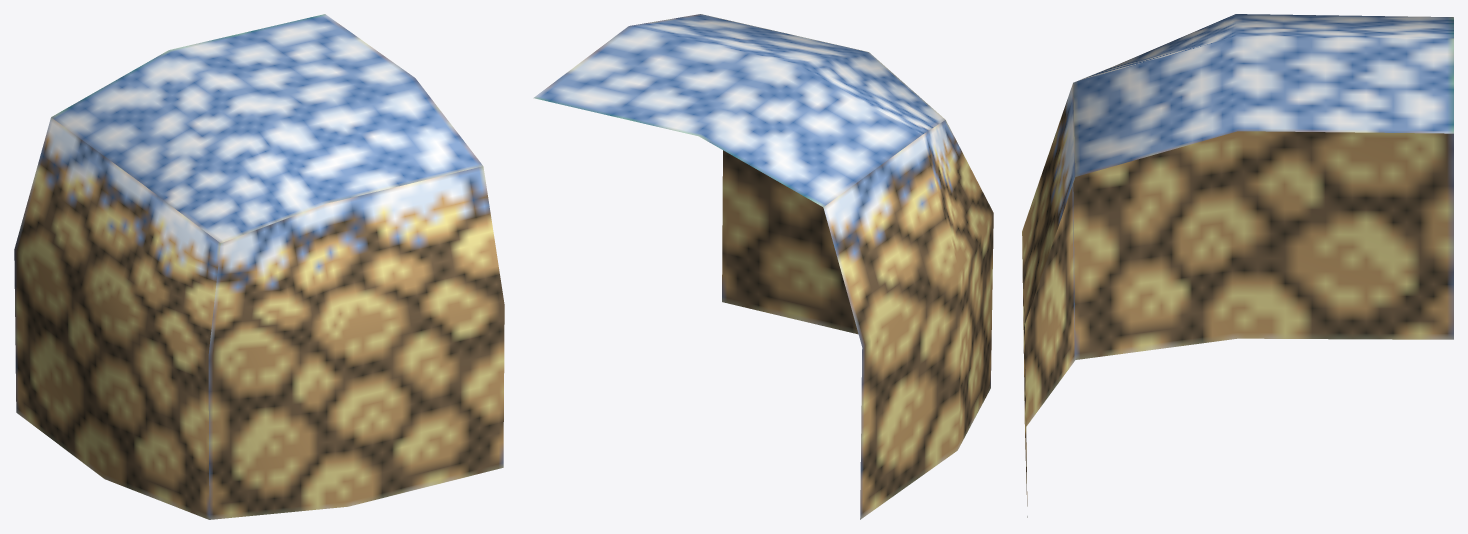
The model's file is snowDTile_groundCorner_lowerLeft.fbx.
The picture shows the model from 3 angles, left to right: view 1: azimuth 30°, elevation 25°; view 2: azimuth 150°, elevation 25°; view 3: azimuth 270°, elevation 25°; orthographic projection. The views are drawn at different scales.
Visible parts, largest first — view 1: snowDTile_groundCorner_lowerLeft; view 2: snowDTile_groundCorner_lowerLeft; view 3: snowDTile_groundCorner_lowerLeft.
Boxes of the visible parts, x1,y1,x2,y2 form: snowDTile_groundCorner_lowerLeft: [14, 14, 504, 519]; snowDTile_groundCorner_lowerLeft: [533, 14, 993, 519]; snowDTile_groundCorner_lowerLeft: [1022, 14, 1453, 517].
Size of the model in its own units: 1.01 by 1.01 by 1.01.
